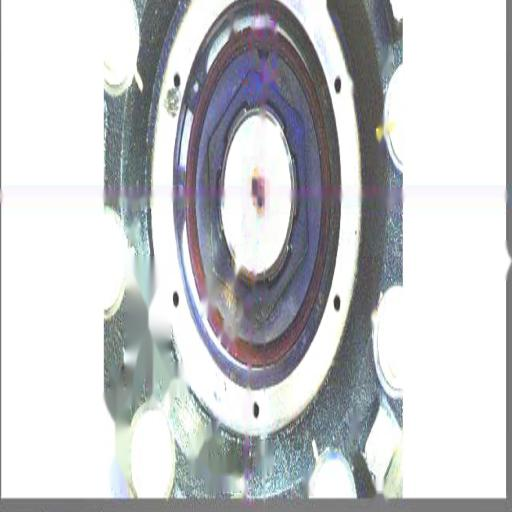center: (248, 174, 262, 207)
notch: (254, 44, 272, 72)
